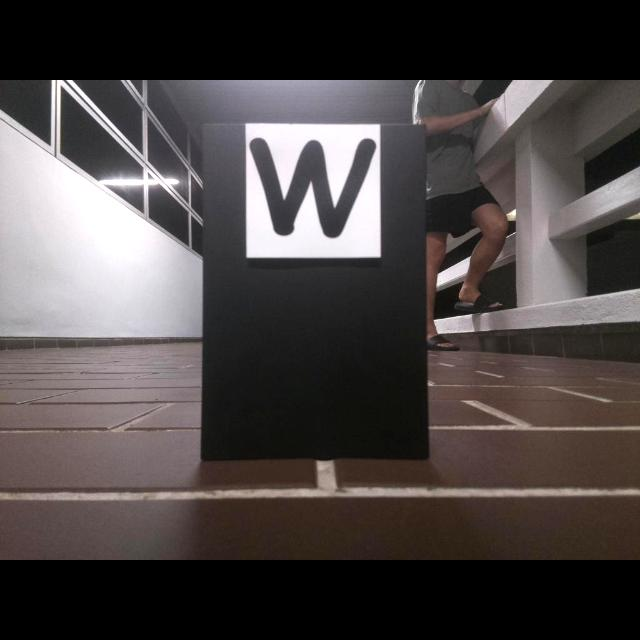W: (247, 135, 380, 241)
